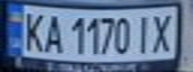0: (115, 13, 133, 55)
1: (66, 14, 84, 54), (84, 13, 100, 55)
7: (97, 14, 118, 54)
A: (39, 11, 66, 54)
I: (133, 11, 154, 54)
K: (18, 8, 48, 53)
X: (148, 10, 175, 53)
